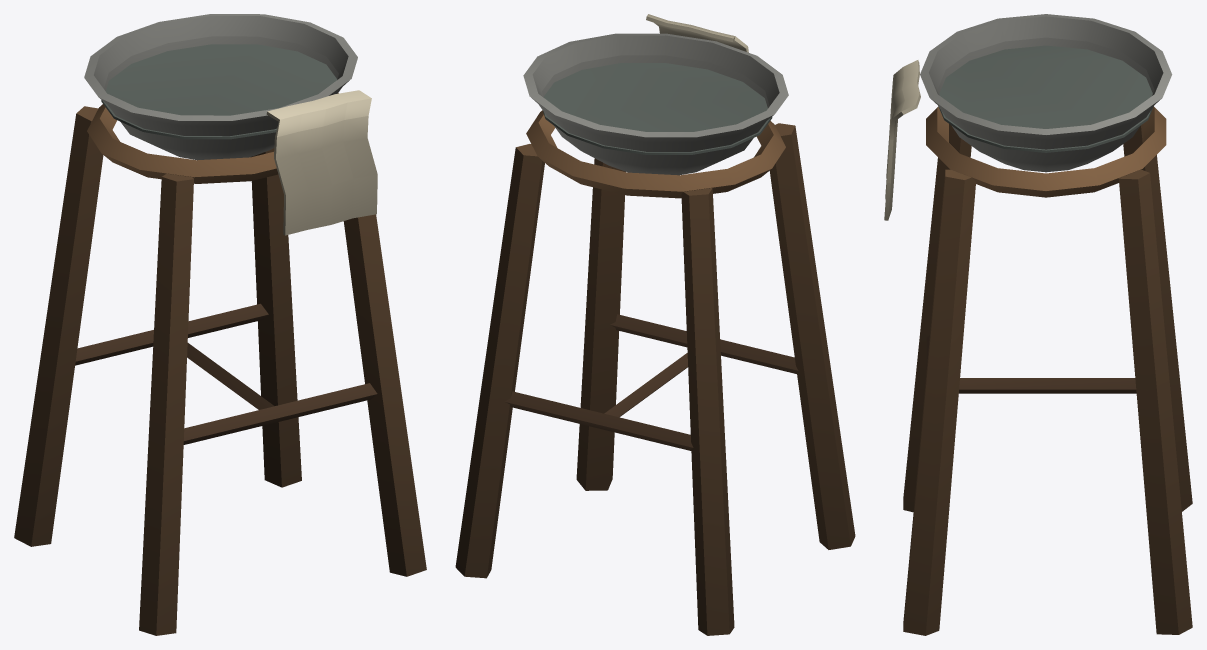
The model's file is ph_prop_wash_basin.glb.
3 views of the same model, side by side, from view 1: azimuth 30°, elevation 25°; view 2: azimuth 150°, elevation 25°; view 3: azimuth 270°, elevation 25° (orthographic). The views are drawn at different scales.
Visible parts, largest first — view 1: ph_prop_wash_basin; view 2: ph_prop_wash_basin; view 3: ph_prop_wash_basin.
Boxes of the visible parts, bbox=[...] form: ph_prop_wash_basin: bbox=[14, 14, 426, 635]; ph_prop_wash_basin: bbox=[455, 14, 855, 635]; ph_prop_wash_basin: bbox=[884, 14, 1192, 635].
Size of the model in its own units: 0.4969 by 0.8294 by 0.4626.
